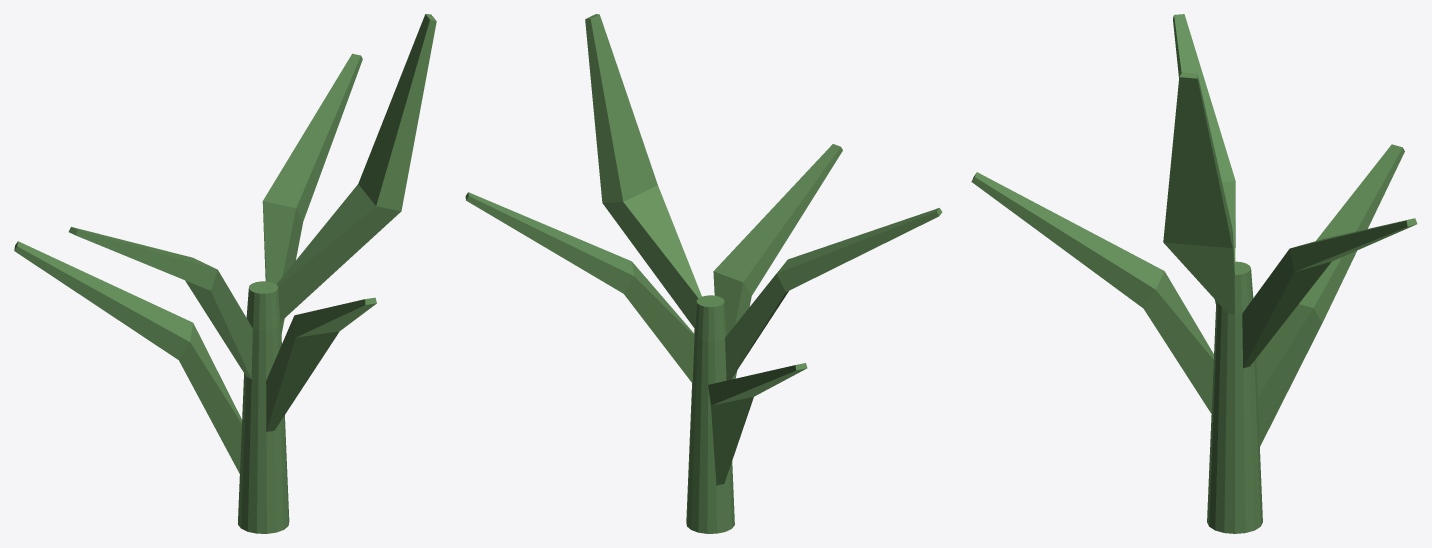
The model's file is EagStage2.fbx.
3 views of the same model, side by side, from view 1: azimuth 30°, elevation 25°; view 2: azimuth 150°, elevation 25°; view 3: azimuth 270°, elevation 25° (orthographic). The views are drawn at different scales.
Visible parts, largest first — view 1: Cylinder; view 2: Cylinder; view 3: Cylinder.
Boxes of the visible parts, bbox=[...] form: Cylinder: bbox=[14, 14, 436, 533]; Cylinder: bbox=[465, 14, 942, 533]; Cylinder: bbox=[971, 14, 1417, 533].
Bounding box in the file's own units: 1769 × 2066 × 1593.
